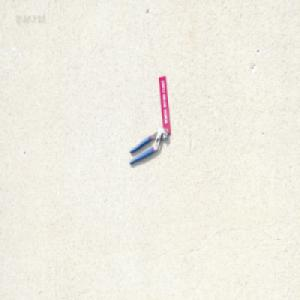Label: (158, 74, 170, 134)
Pliers: (128, 126, 168, 165)
